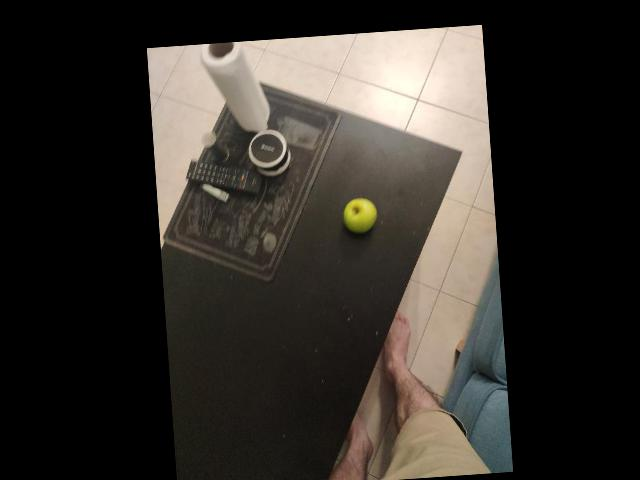apple: (317, 150, 367, 192)
